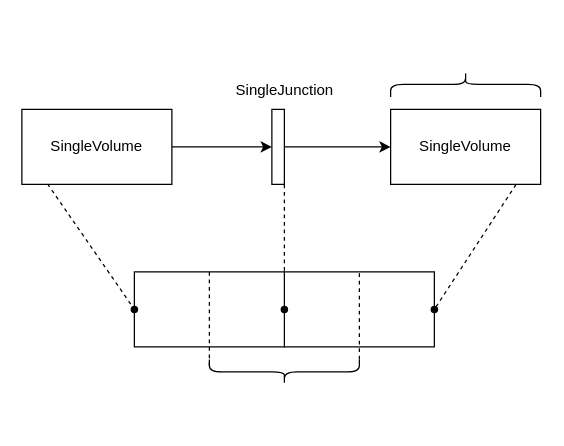
Image size: 564x446. Some labels were removed from this diagram. The shapes that lost their labels are listed below. From the top down, each one's box as (x1, y1, x2, y2) in pixels, then its label:
(389, 71, 541, 97): Mass & Energy Control Volume
(208, 358, 359, 384): Momentum Control Volume
